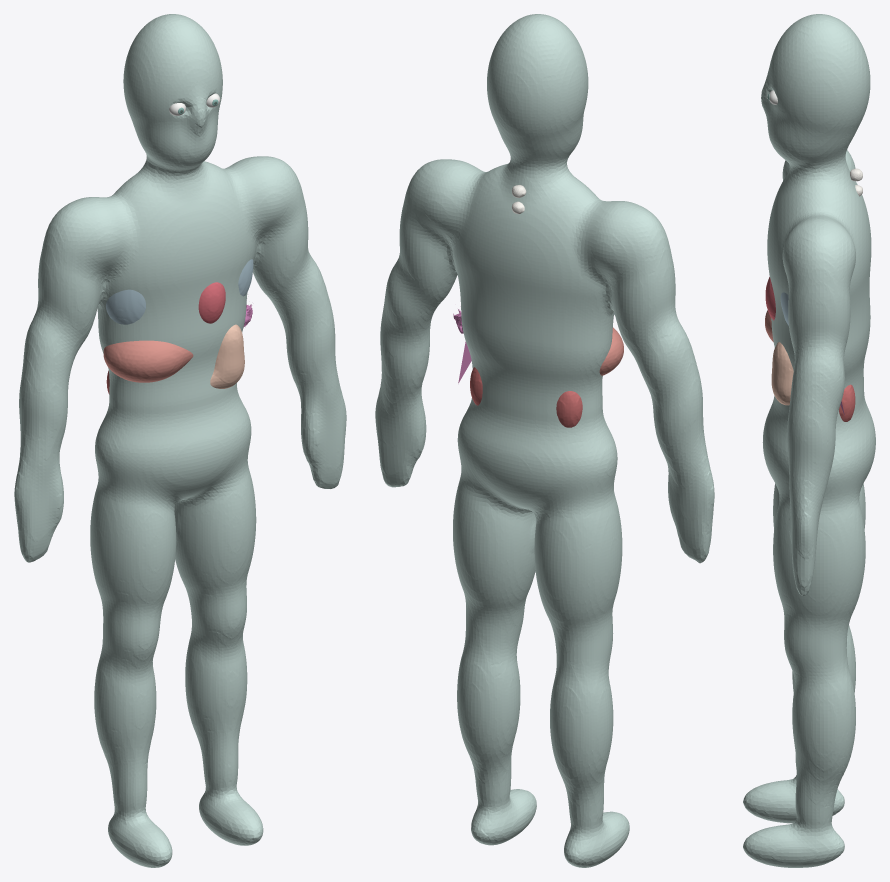
The model's file is anatomy-navigation.glb.
The picture shows the model from 3 angles, left to right: view 1: azimuth 30°, elevation 25°; view 2: azimuth 150°, elevation 25°; view 3: azimuth 270°, elevation 25°; orthographic projection. The views are drawn at different scales.
Visible parts, largest first — view 1: body_shell, liver, stomach, lung, heart; view 2: body_shell, kidney; view 3: body_shell, stomach, kidney, heart.
Part boxes in pixels (x1,y1,x2,y2): body_shell: (14, 14, 346, 867); liver: (103, 340, 193, 382); stomach: (210, 324, 244, 388); lung: (106, 259, 253, 324); heart: (198, 282, 225, 323); body_shell: (375, 14, 714, 867); kidney: (470, 367, 582, 427); body_shell: (743, 14, 875, 867); stomach: (771, 342, 793, 405); kidney: (839, 384, 855, 421); heart: (765, 277, 775, 320).
Size of the model in its own units: 1.2 by 2.85 by 0.4159.
